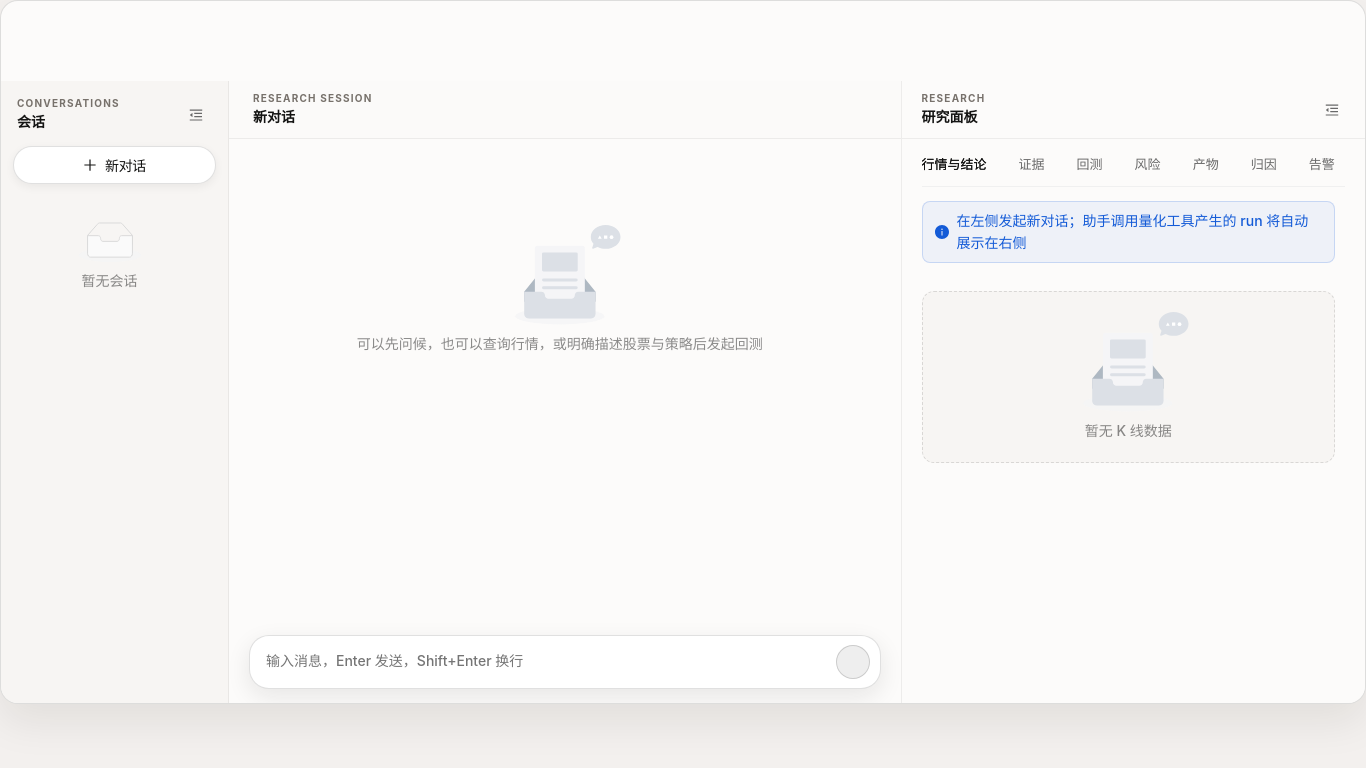
Test case: AgentWorkspace › 桌面侧栏可以折叠并恢复
The image size is (1366, 768).
Click the button named "收起会话列表". click: (196,114)
box: x1=180 y1=98 x2=212 y2=132
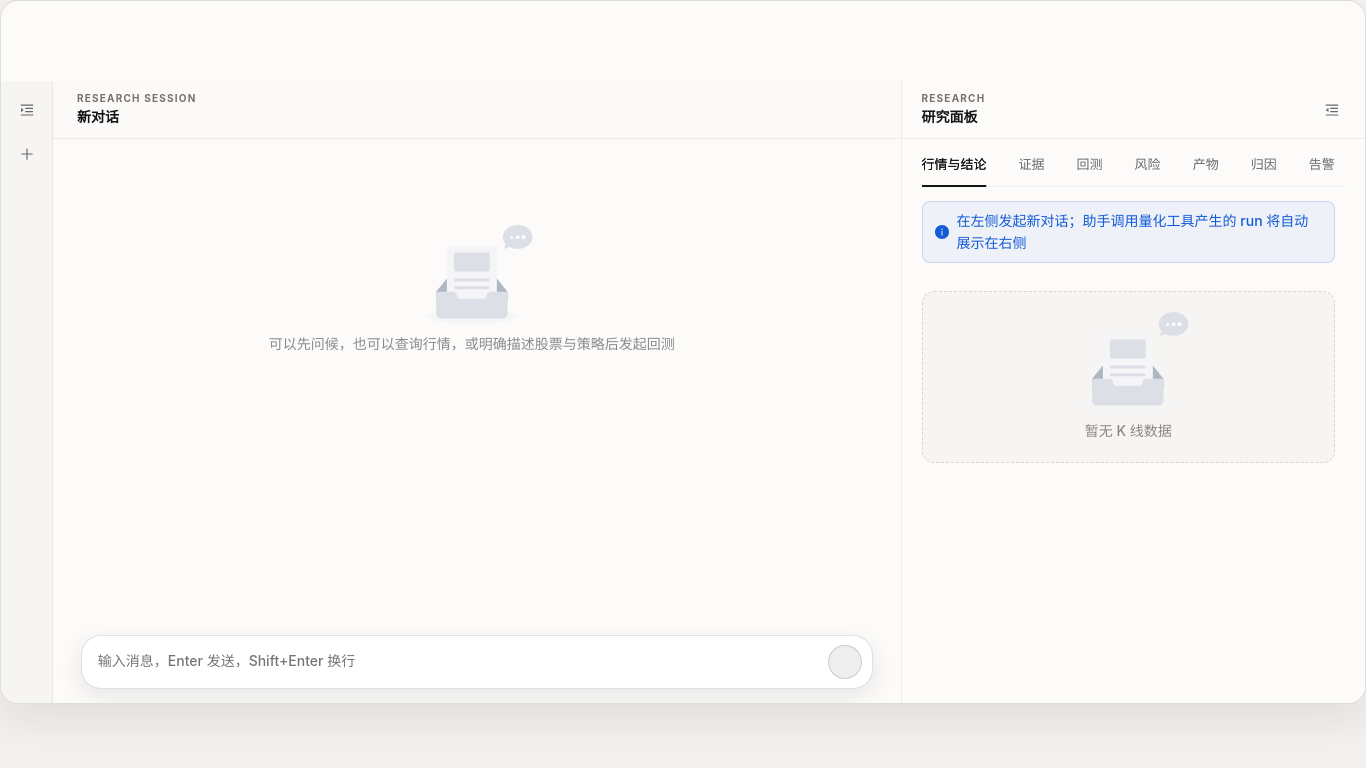
Expected: the button named "展开会话列表" is shown, x1=10 y1=93 x2=42 y2=127
Click the button named "收起研究区". click: (1332,110)
box: x1=1315 y1=92 x2=1349 y2=126
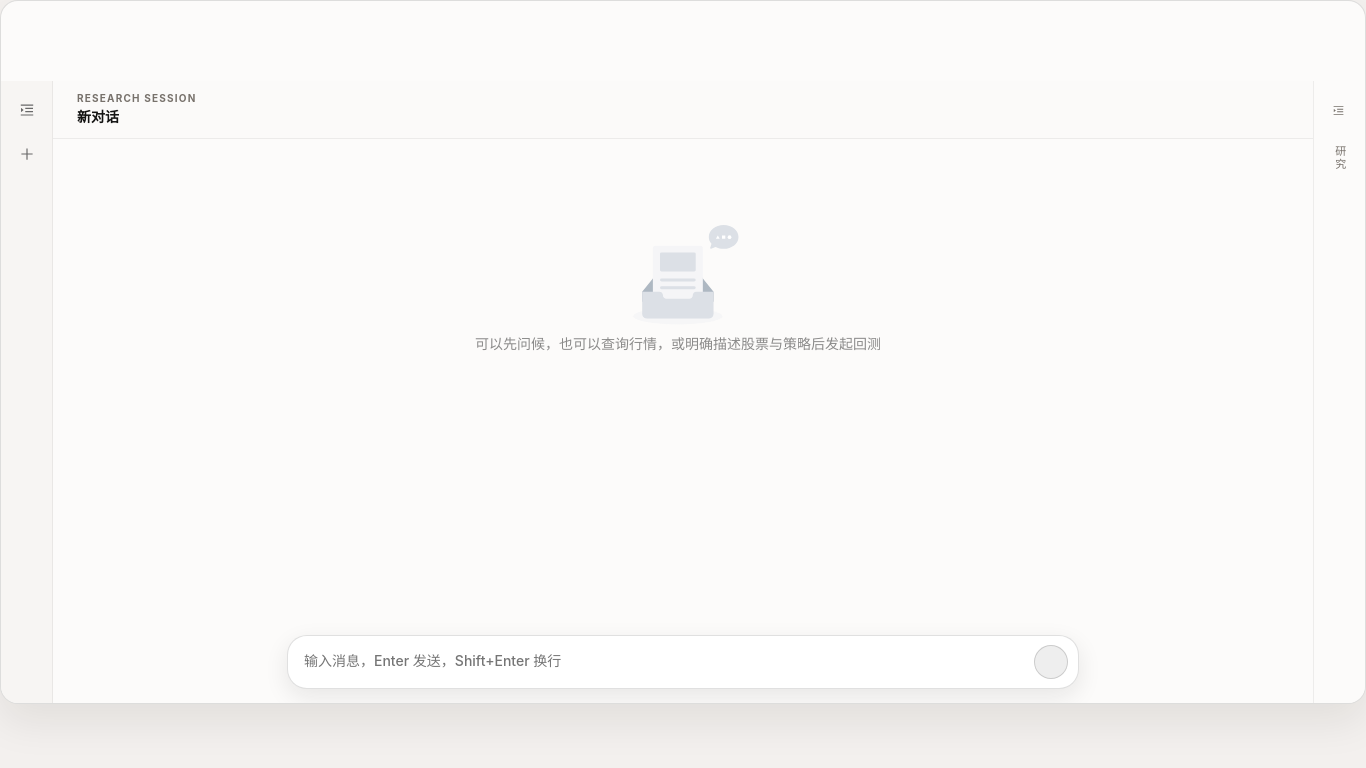
Expected: the button named "展开研究区" is shown, x1=1322 y1=93 x2=1356 y2=127
Click the button named "展开会话列表". click: (26,110)
box: x1=10 y1=93 x2=42 y2=127
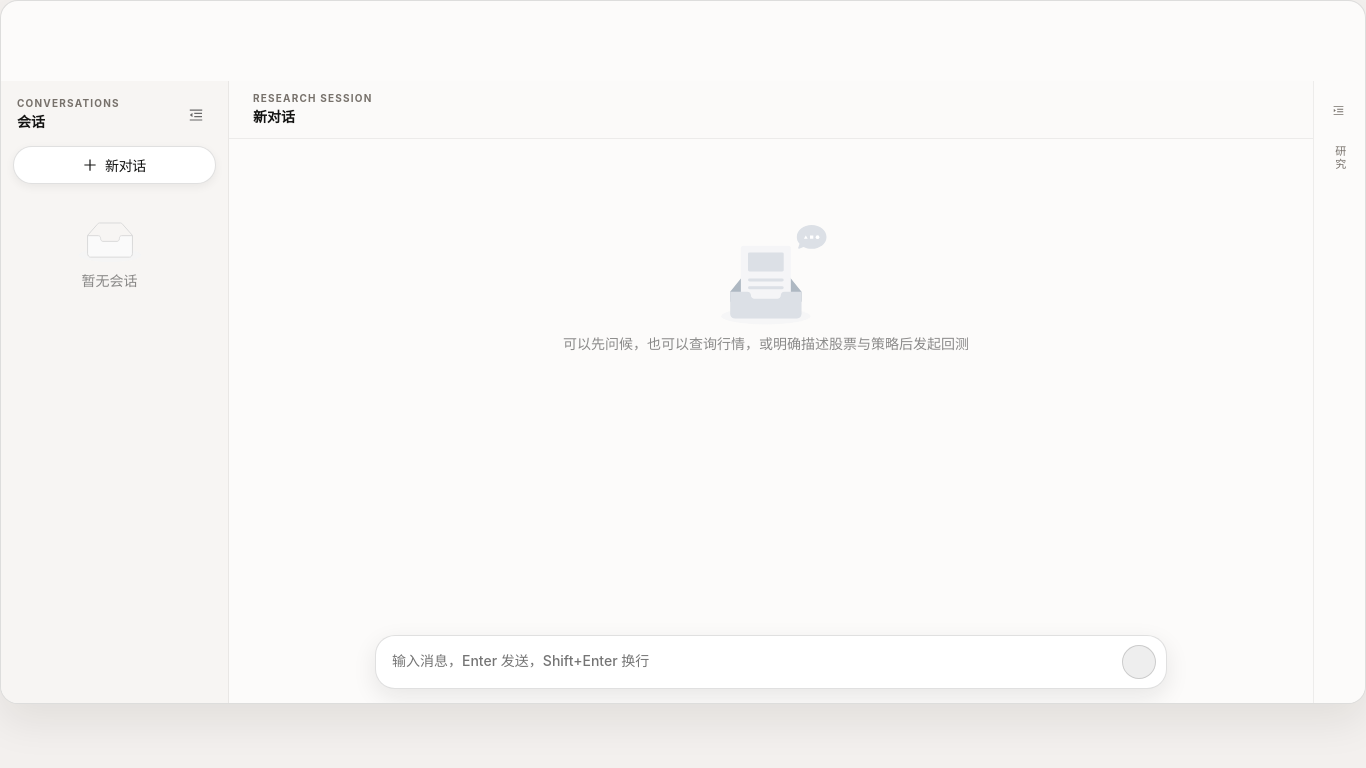
Click the button named "展开研究区". click: (1340,110)
box: x1=1322 y1=93 x2=1356 y2=127
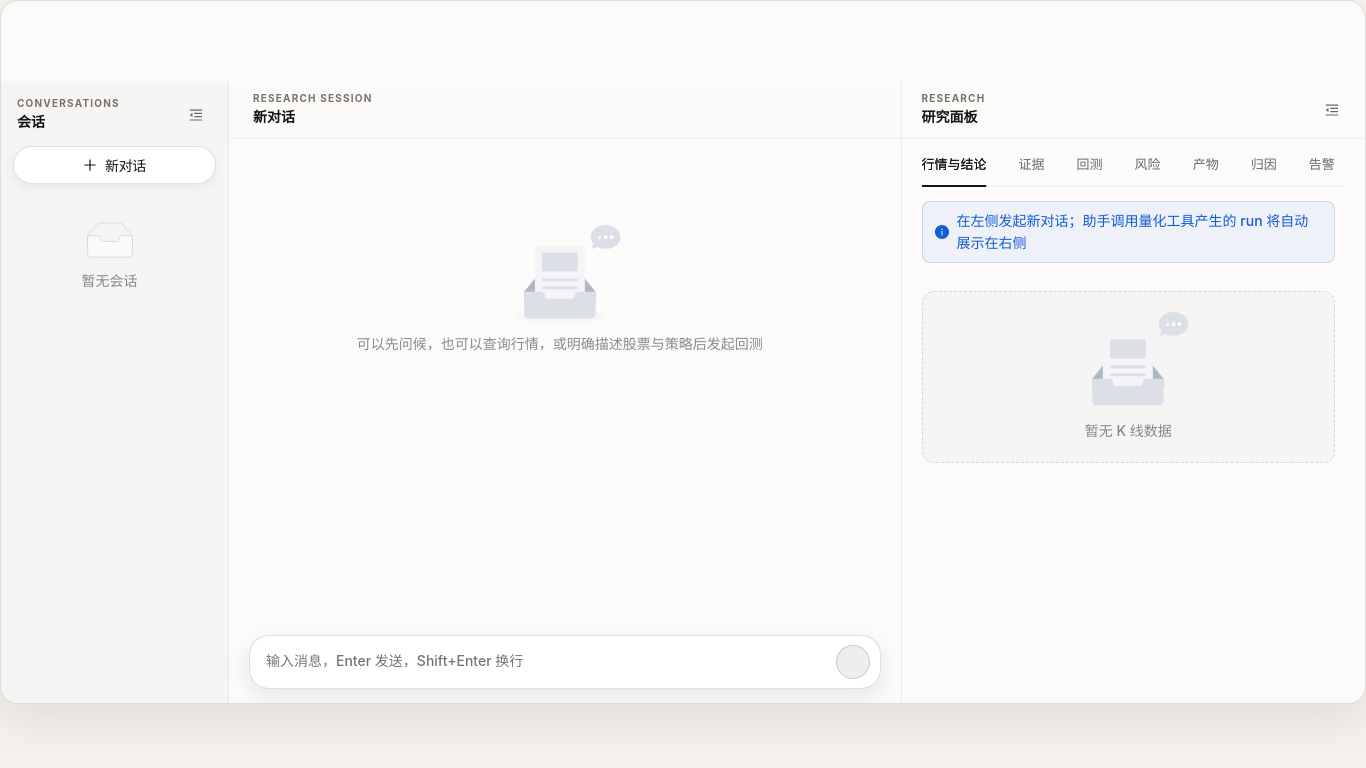
Expected: the button named "收起会话列表" is shown, x1=180 y1=98 x2=212 y2=132
Expected: the button named "收起研究区" is shown, x1=1315 y1=92 x2=1349 y2=126
